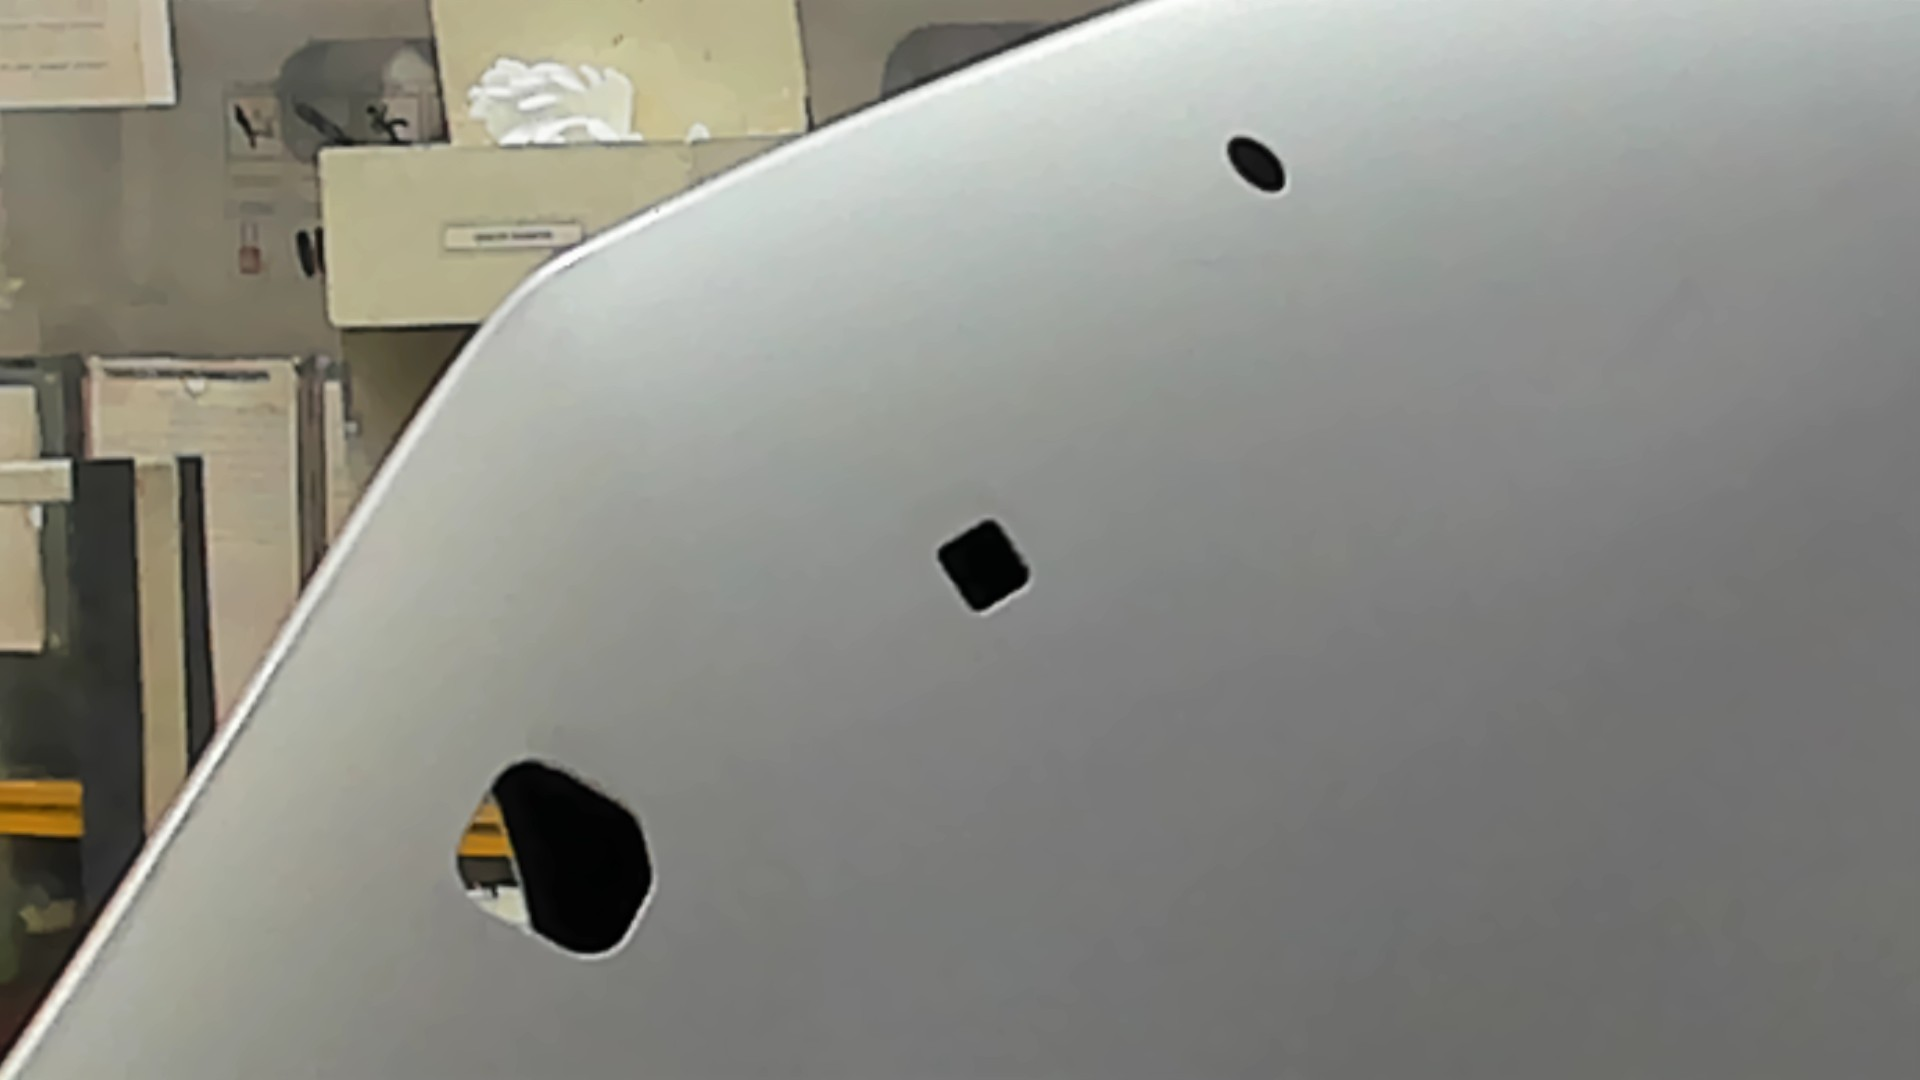Agujero: (934, 516, 1034, 617), (1224, 135, 1288, 195)
Agujerote: (454, 756, 657, 961)
